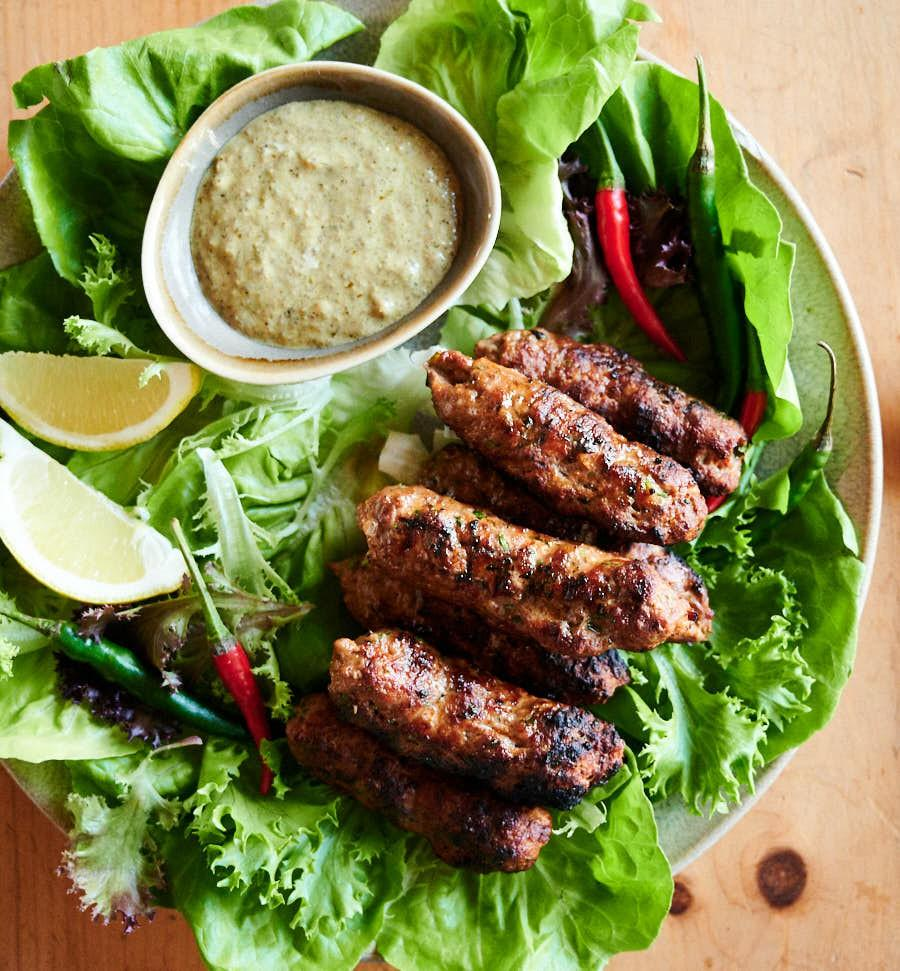Kebab: (357, 485, 713, 656), (426, 350, 705, 546), (329, 633, 624, 810), (284, 689, 551, 874), (475, 328, 755, 493), (330, 555, 632, 706), (420, 438, 630, 556), (758, 320, 761, 325)
